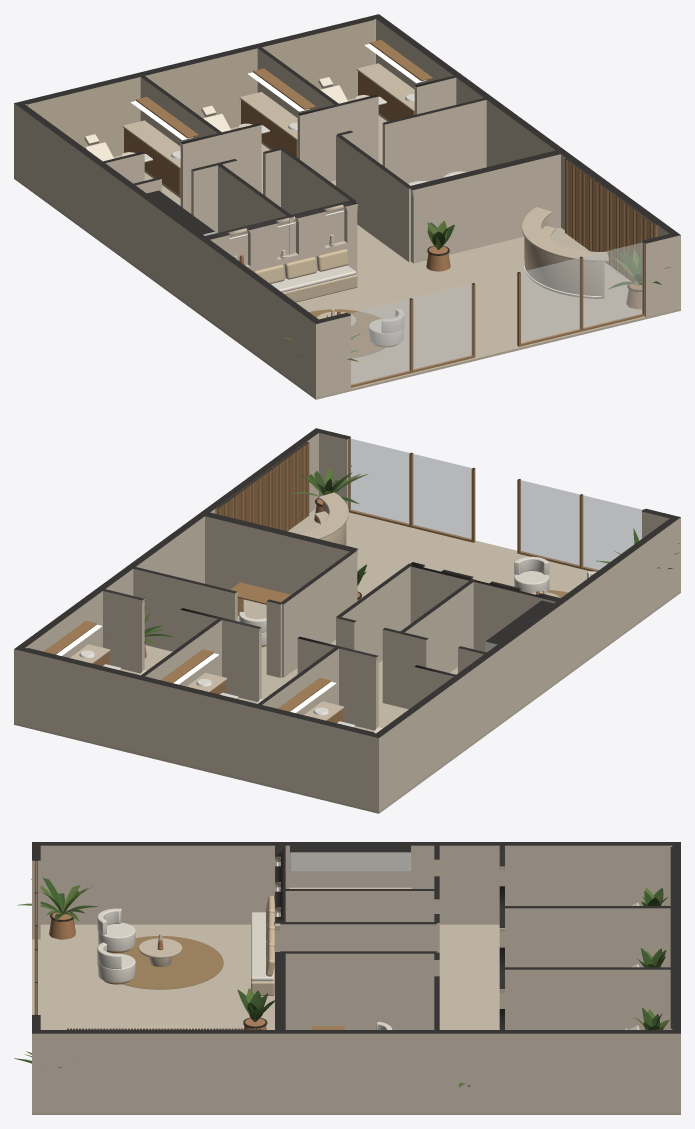
File: clinica.glb
3 views of the same model, one above another, from view 1: azimuth 30°, elevation 25°; view 2: azimuth 150°, elevation 25°; view 3: azimuth 270°, elevation 25° (orthographic). The views are drawn at different scales.
Visible parts, largest first — view 1: Piso, Muro_Izquierdo, Fachada_Vidrio, Muro_Recepcion_Nichos, Muro_Gabinetes, Muro_Derecho, Muro_Servicios_Der, Recepcion_Muro_Listones, Fachada, Muro_Pasillo_Der, Gabinete1_Muro_Piedra, Gabinete3_Muro_Piedra (+19 smaller); view 2: Muro_Fondo, Muro_Izquierdo, Fachada_Vidrio, Piso, Muro_Recepcion_Nichos, Muro_Gabinetes, Muro_Derecho, Muro_Servicios_Der, Muro_Pasillo_Der, Recepcion_Muro_Listones, Muro_Servicios_Izq, Muro_Ester_Bano (+13 smaller); view 3: Muro_Derecho, Muro_Izquierdo, Piso, Muro_Pasillo_Der, Muro_Entre_Gabinetes_2, Muro_Entre_Gabinetes_1, Muro_Ester_Bano, Muro_Pasillo_Izq, Esterilizacion_Mesones, Espera_Alfombra_Yute, Muro_Recepcion_Nichos, Muro_Fondo (+12 smaller).
Part boxes in pixels (<box>): Piso: <box>14,98,680,399</box>; Muro_Izquierdo: <box>14,102,322,397</box>; Fachada_Vidrio: <box>350,242,642,384</box>; Muro_Recepcion_Nichos: <box>205,150,560,278</box>; Muro_Gabinetes: <box>103,76,456,213</box>; Muro_Derecho: <box>373,14,680,310</box>; Muro_Servicios_Der: <box>337,98,486,183</box>; Recepcion_Muro_Listones: <box>565,158,657,281</box>; Fachada: <box>312,232,680,397</box>; Muro_Pasillo_Der: <box>336,134,412,261</box>; Gabinete1_Muro_Piedra: <box>27,76,140,156</box>; Gabinete3_Muro_Piedra: <box>261,19,374,99</box>; Muro_Fondo: <box>14,646,382,811</box>; Muro_Izquierdo: <box>376,515,680,811</box>; Fachada_Vidrio: <box>350,438,642,570</box>; Piso: <box>14,508,680,813</box>; Muro_Recepcion_Nichos: <box>205,512,560,651</box>; Muro_Gabinetes: <box>103,589,455,730</box>; Muro_Derecho: <box>16,428,321,657</box>; Muro_Servicios_Der: <box>133,567,282,677</box>; Muro_Pasillo_Der: <box>280,550,356,677</box>; Recepcion_Muro_Listones: <box>215,442,309,531</box>; Muro_Servicios_Izq: <box>337,616,486,709</box>; Muro_Ester_Bano: <box>399,579,475,672</box>; Muro_Derecho: <box>32,1030,680,1112</box>; Muro_Izquierdo: <box>32,842,680,924</box>; Piso: <box>32,924,680,1114</box>; Muro_Pasillo_Der: <box>280,951,436,1029</box>; Muro_Entre_Gabinetes_2: <box>502,967,672,1029</box>; Muro_Entre_Gabinetes_1: <box>502,906,672,967</box>; Muro_Ester_Bano: <box>280,889,436,921</box>; Muro_Pasillo_Izq: <box>280,922,436,951</box>; Esterilizacion_Mesones: <box>289,845,411,888</box>; Espera_Alfombra_Yute: <box>97,936,223,989</box>; Muro_Recepcion_Nichos: <box>275,845,285,1029</box>; Muro_Fondo: <box>672,842,680,1033</box>.
Size of the model in its own units: 10.93 by 2.06 by 15.31.
